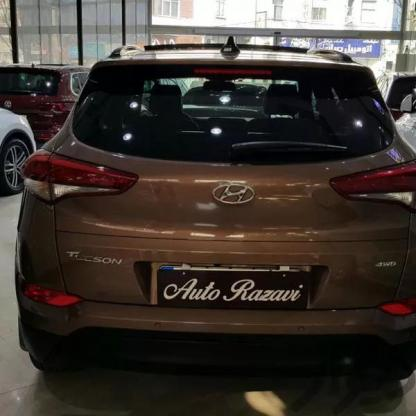Car: (12, 34, 416, 388), (0, 32, 123, 202)
